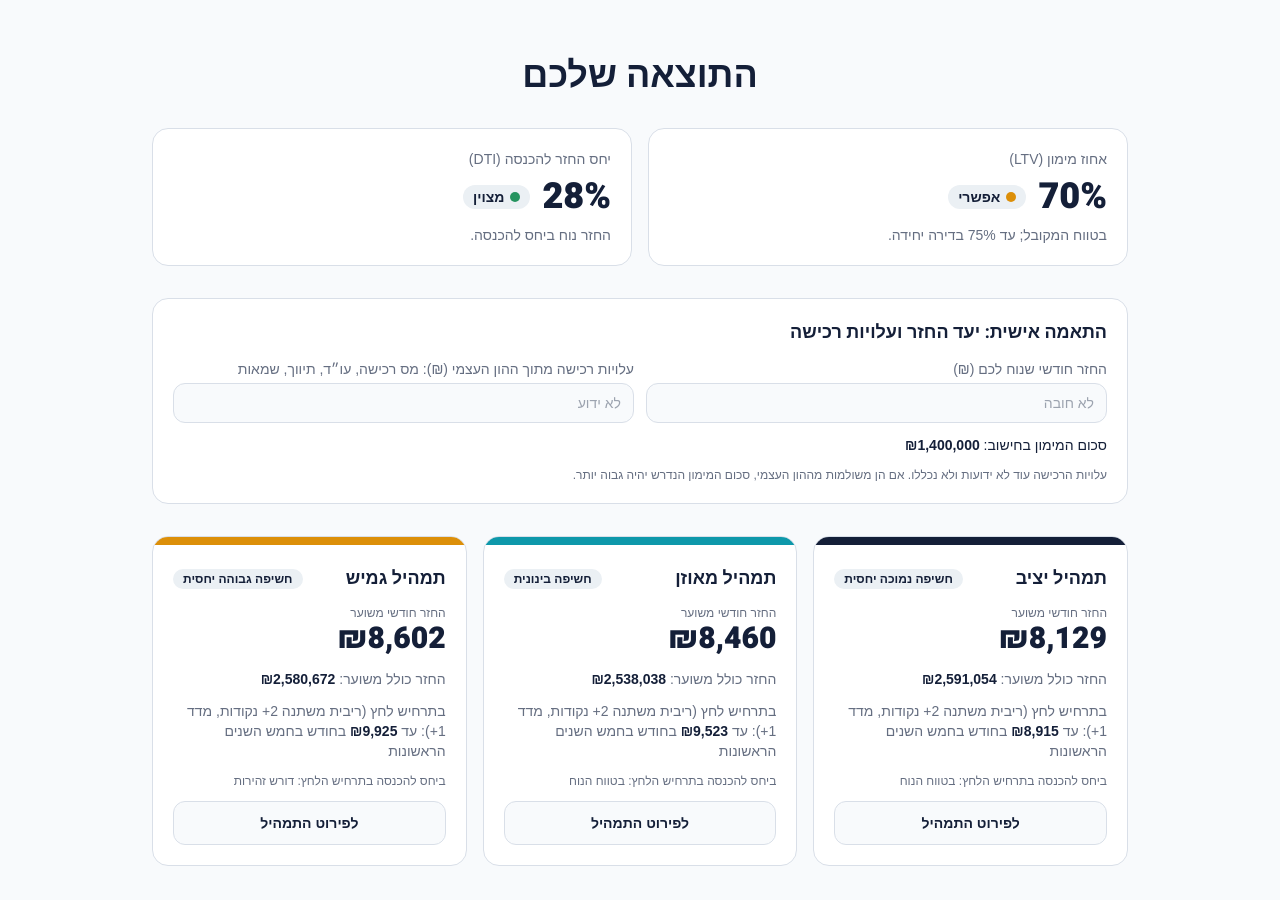
Test: new mortgage: target payment and purchase costs (#52, #57 item 3) › target payment is judged per mix, including the stress test
Type "9,000" into the field labelled "החזר חודשי שנוח לכם (₪)" at [876, 403], box [646,383,1107,423]
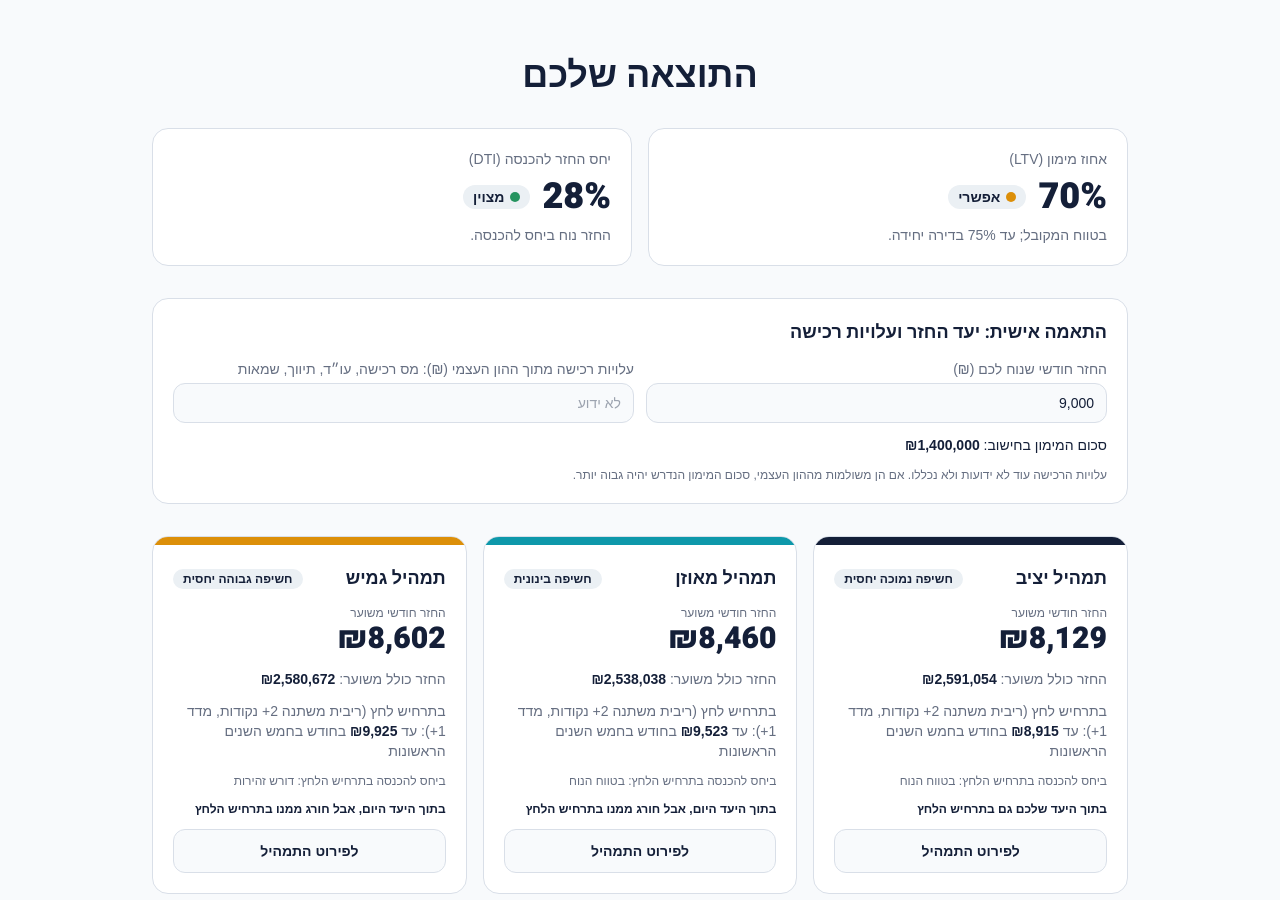
Expected: the text "בתוך היעד שלכם גם בתרחיש הלחץ" is shown 3 times, [917,802,1107,816]; [504,801,776,817]; [173,801,446,817]
Expected: the text "בתוך היעד שלכם גם בתרחיש הלחץ" is shown, [917,802,1107,816]
Expected: the text "בתוך היעד היום, אבל חורג ממנו בתרחיש הלחץ" below "₪9,523" is shown, [526,802,776,816]
